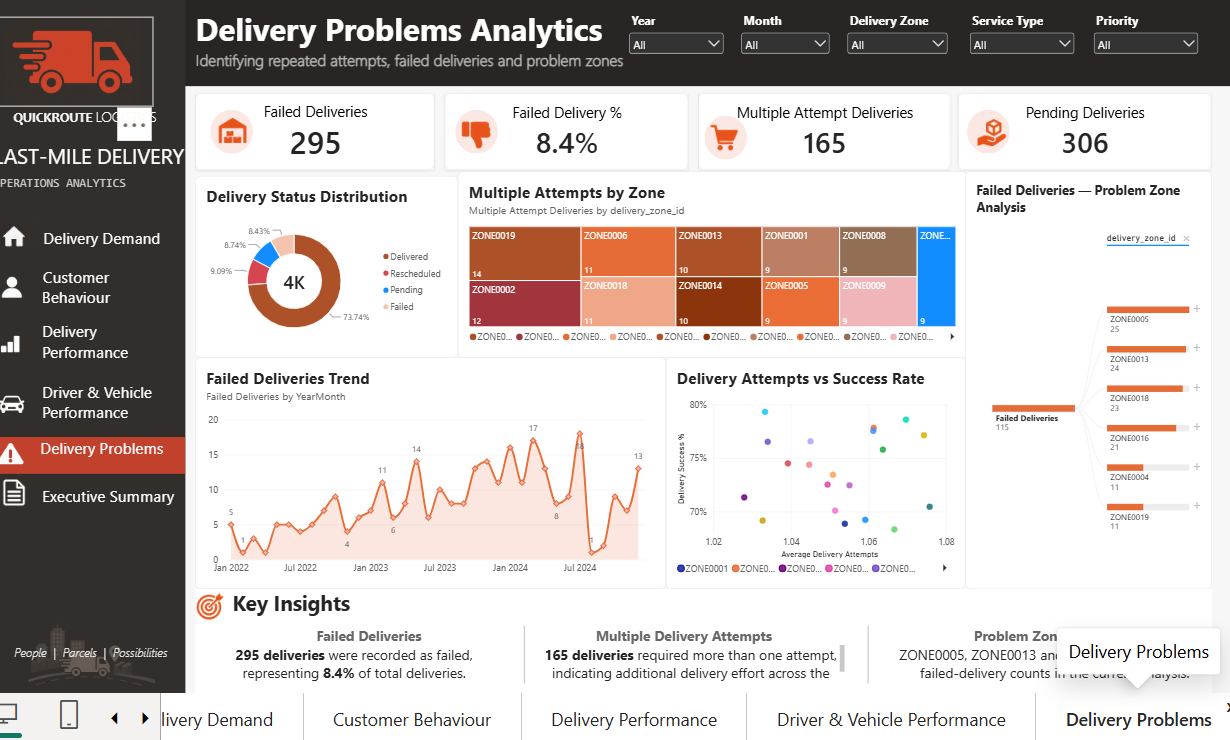

Layout of this report page (visuals, bound fields, positions):
{"tool":"powerbi","page":{"name":"Delivery Problems","canvas":[1920,1080],"ordinal":4},"visuals":[{"type":"shape","box":[0,0,1920,140],"z":0},{"type":"textbox","box":[315.8,18.4,1604.2,122.2],"z":1000},{"type":"shape","box":[0,0,299.6,1081],"z":2000},{"type":"textbox","box":[29.7,418.2,201.1,84.6],"z":3000},{"type":"textbox","box":[77.7,502.8,221.7,86.8],"z":4000},{"type":"textbox","box":[77.7,596.5,221.7,70.8],"z":5000},{"type":"textbox","box":[2.3,683.3,297.1,57.1],"z":6000},{"type":"textbox","box":[77.7,758.8,221.7,45.7],"z":7000},{"type":"image","box":[9.1,875.3,290.2,205.7],"z":8000},{"type":"image","box":[2.3,32,246.8,139.4],"z":9000},{"type":"image","box":[9.1,740.5,50.3,52.6],"z":10000},{"type":"image","box":[2.3,516.5,52.6,43.4],"z":11000},{"type":"image","box":[2.3,596.5,57.1,70.8],"z":12000},{"type":"image","box":[6.9,429.7,48,41.1],"z":13000},{"type":"slicer","fields":{"Values":["date_table.Year"]},"box":[982.7,25.1,155.4,91.4],"z":14000},{"type":"slicer","fields":{"Values":["date_table.MonthName"]},"box":[1156.4,25.1,146.3,91.4],"z":15000},{"type":"slicer","fields":{"Values":["orders (1).delivery_zone_id"]},"box":[1321,25.1,164.5,102.8],"z":16000},{"type":"slicer","fields":{"Values":["orders (1).service_type"]},"box":[1510.7,25.1,171.4,102.8],"z":17000},{"type":"slicer","fields":{"Values":["orders (1).priority"]},"box":[1702.6,25.1,171.4,102.8],"z":18000},{"type":"textbox","box":[34.3,1003.3,246.8,61.7],"z":19000},{"type":"textbox","box":[2.3,358.8,297.1,43.4],"z":20000},{"type":"image","box":[0,340.5,68.6,61.7],"z":21000},{"type":"textbox","box":[2.3,171.4,283.4,54.8],"z":22000},{"type":"textbox","box":[2.3,226.3,402.2,89.1],"z":23000},{"type":"textbox","box":[2.3,278.8,244.5,36.6],"z":24000},{"type":"cardVisual","fields":{"Data":["_Measures (2).Failed Deliveries"]},"box":[315.4,150.8,370.2,118.8],"z":25000},{"type":"cardVisual","fields":{"Data":["_Measures (2).Failed Delivery %"]},"box":[701.6,150.8,377.1,118.8],"z":26000},{"type":"cardVisual","fields":{"Data":["_Measures (2).Multiple Attempt Deliveries"]},"box":[1094.7,150.8,390.8,118.8],"z":27000},{"type":"cardVisual","fields":{"Data":["_Measures (2).Pending Deliveries"]},"box":[1496.9,150.8,392,118.8],"z":28000},{"type":"shape","box":[338.2,176,66.3,68.6],"z":29000},{"type":"shape","box":[717.6,176,66.3,68.6],"z":30000},{"type":"shape","box":[1103.9,185.1,66.3,68.6],"z":31000},{"type":"shape","box":[1510.7,176,66.3,68.6],"z":32000},{"type":"image","box":[1510.7,185.1,77.7,59.4],"z":33000},{"type":"image","box":[1106.1,192,66.3,57.1],"z":34000},{"type":"donutChart","title":"Delivery Status Distribution","fields":{"Category":["deliveries (1).status"],"Y":["_Measures (2).Total Deliveries"]},"box":[315.4,278.8,406.8,281.1],"z":35000},{"type":"scatterChart","title":"Delivery Attempts vs Success Rate","fields":{"Series":["orders (1).delivery_zone_id"],"X":["_Measures (2).Average Delivery Attempts"],"Y":["_Measures (2).Delivery Success %"]},"box":[1044.4,559.9,463.9,358.8],"z":36000},{"type":"treemap","title":"Multiple Attempts by Zone","fields":{"Group":["orders (1).delivery_zone_id"],"Values":["_Measures (2).Multiple Attempt Deliveries"]},"box":[722.2,272,788.5,288],"z":37000},{"type":"decompositionTreeVisual","title":"Failed Deliveries — Problem Zone Analysis","fields":{"Analyze":["_Measures (2).Failed Deliveries"],"ExplainBy":["orders (1).delivery_zone_id","orders (1).service_type","deliveries (1).status"]},"box":[1508.4,272,381.7,646.8],"z":38000},{"type":"lineChart","title":"Failed Deliveries Trend","fields":{"Category":["date_table.YearMonth"],"Y":["_Measures (2).Failed Deliveries"]},"box":[315.4,559.9,729,358.8],"z":39000},{"type":"shape","box":[315.4,917.7,1574.6,162.3],"z":40000},{"type":"textbox","box":[372.5,918.7,205.7,57.1],"z":41000},{"type":"image","box":[299.4,918.7,75.4,61.7],"z":42000},{"type":"textbox","box":[409.1,975.9,349.7,45.7],"z":43000},{"type":"textbox","box":[315.4,1004.6,491.4,75.4],"z":44000},{"type":"shape","box":[758.8,975.9,132.6,89.1],"z":45000},{"type":"shape","box":[1291.3,975.9,132.6,89.1],"z":46000},{"type":"textbox","box":[852.5,975.9,438.8,52.6],"z":47000},{"type":"textbox","box":[852.5,1005.6,468.5,59.4],"z":48000},{"type":"textbox","box":[1403.2,975.9,386.2,52.6],"z":49000},{"type":"textbox","box":[1403.2,1005.6,486.8,59.4],"z":50000},{"type":"image","box":[715.3,182.8,68.6,61.7],"z":51000},{"type":"image","box":[338.2,176,66.3,68.6],"z":52000},{"type":"image","box":[2.3,667.3,52.6,82.3],"z":53000}]}

Visuals, with their boxes on the page's 1920x1080 design canvas (x1, y1, x2, y2). These are canvas units, not pixel positions in the 1230x740 screenshot, which may show the page scaled, cropped or inside an application window:
shape: detection(0, 0, 1920, 140)
textbox: detection(316, 18, 1920, 141)
shape: detection(0, 0, 300, 1081)
textbox: detection(30, 418, 231, 503)
textbox: detection(78, 503, 299, 590)
textbox: detection(78, 596, 299, 667)
textbox: detection(2, 683, 299, 740)
textbox: detection(78, 759, 299, 804)
image: detection(9, 875, 299, 1081)
image: detection(2, 32, 249, 171)
image: detection(9, 740, 59, 793)
image: detection(2, 516, 55, 560)
image: detection(2, 596, 59, 667)
image: detection(7, 430, 55, 471)
slicer - date_table.Year: detection(983, 25, 1138, 116)
slicer - date_table.MonthName: detection(1156, 25, 1303, 116)
slicer - orders (1).delivery_zone_id: detection(1321, 25, 1486, 128)
slicer - orders (1).service_type: detection(1511, 25, 1682, 128)
slicer - orders (1).priority: detection(1703, 25, 1874, 128)
textbox: detection(34, 1003, 281, 1065)
textbox: detection(2, 359, 299, 402)
image: detection(0, 340, 69, 402)
textbox: detection(2, 171, 286, 226)
textbox: detection(2, 226, 404, 315)
textbox: detection(2, 279, 247, 315)
cardVisual - _Measures (2).Failed Deliveries: detection(315, 151, 686, 270)
cardVisual - _Measures (2).Failed Delivery %: detection(702, 151, 1079, 270)
cardVisual - _Measures (2).Multiple Attempt Deliveries: detection(1095, 151, 1486, 270)
cardVisual - _Measures (2).Pending Deliveries: detection(1497, 151, 1889, 270)
shape: detection(338, 176, 404, 245)
shape: detection(718, 176, 784, 245)
shape: detection(1104, 185, 1170, 254)
shape: detection(1511, 176, 1577, 245)
image: detection(1511, 185, 1588, 244)
image: detection(1106, 192, 1172, 249)
"Delivery Status Distribution" donutChart: detection(315, 279, 722, 560)
"Delivery Attempts vs Success Rate" scatterChart: detection(1044, 560, 1508, 919)
"Multiple Attempts by Zone" treemap: detection(722, 272, 1511, 560)
"Failed Deliveries — Problem Zone Analysis" decompositionTreeVisual: detection(1508, 272, 1890, 919)
"Failed Deliveries Trend" lineChart: detection(315, 560, 1044, 919)
shape: detection(315, 918, 1890, 1080)
textbox: detection(372, 919, 578, 976)
image: detection(299, 919, 375, 980)
textbox: detection(409, 976, 759, 1022)
textbox: detection(315, 1005, 807, 1080)
shape: detection(759, 976, 891, 1065)
shape: detection(1291, 976, 1424, 1065)
textbox: detection(852, 976, 1291, 1028)
textbox: detection(852, 1006, 1321, 1065)
textbox: detection(1403, 976, 1789, 1028)
textbox: detection(1403, 1006, 1890, 1065)
image: detection(715, 183, 784, 244)
image: detection(338, 176, 404, 245)
image: detection(2, 667, 55, 750)
